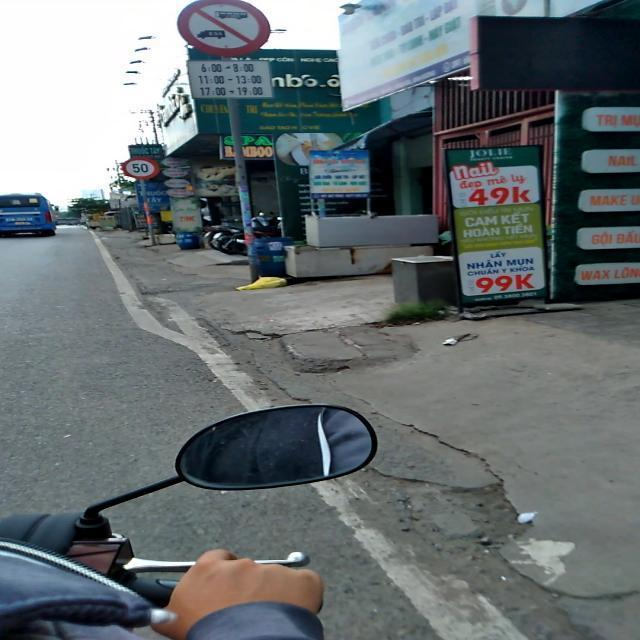127-toc-do-toi-da-50: (122, 157, 160, 179)
